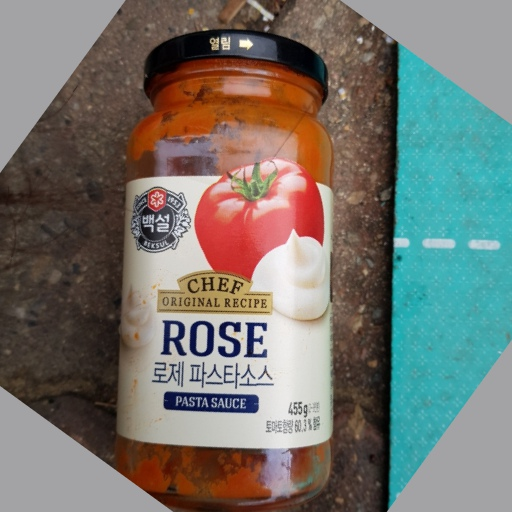Glass_5: (113, 30, 341, 506)
